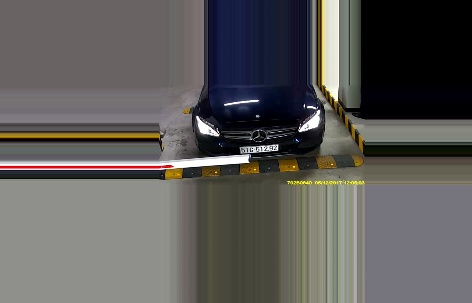plate: (238, 142, 280, 154)
